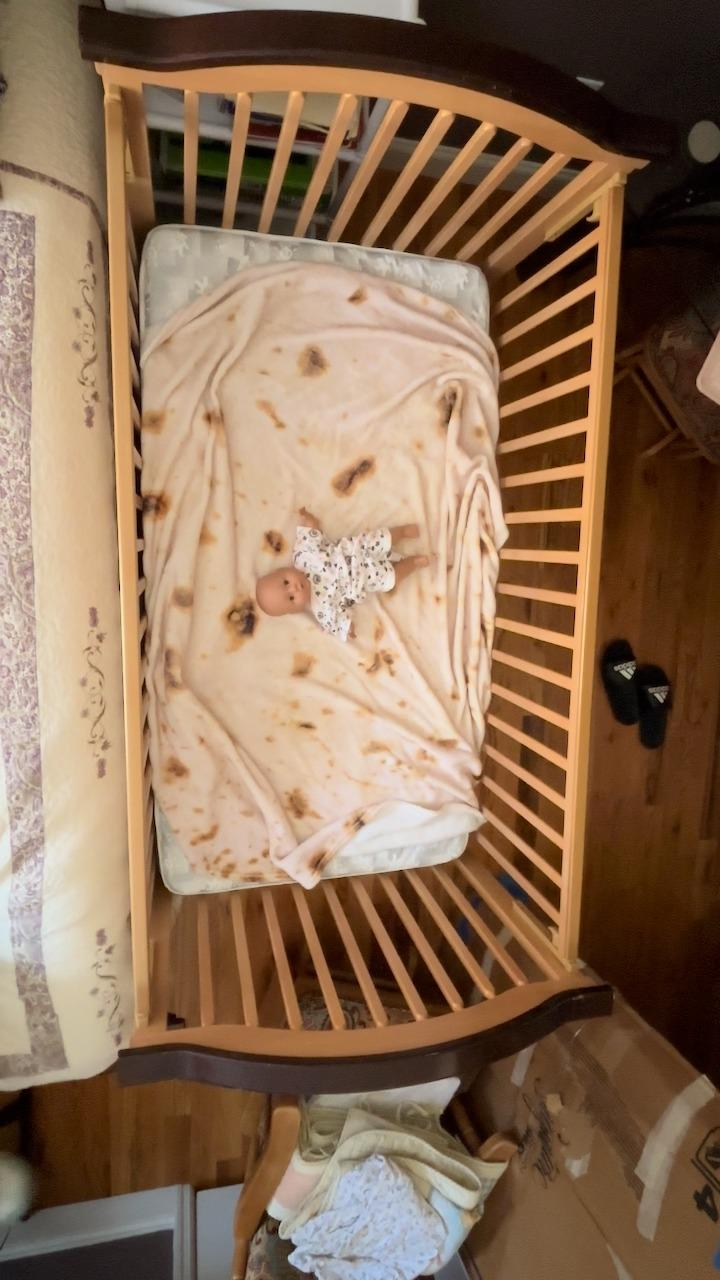baby: (252, 506, 438, 644)
